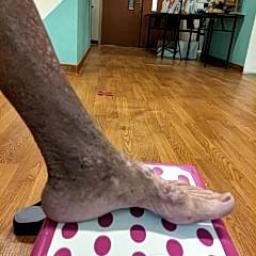Medial View -Left Foot-: (22, 114, 248, 243)
